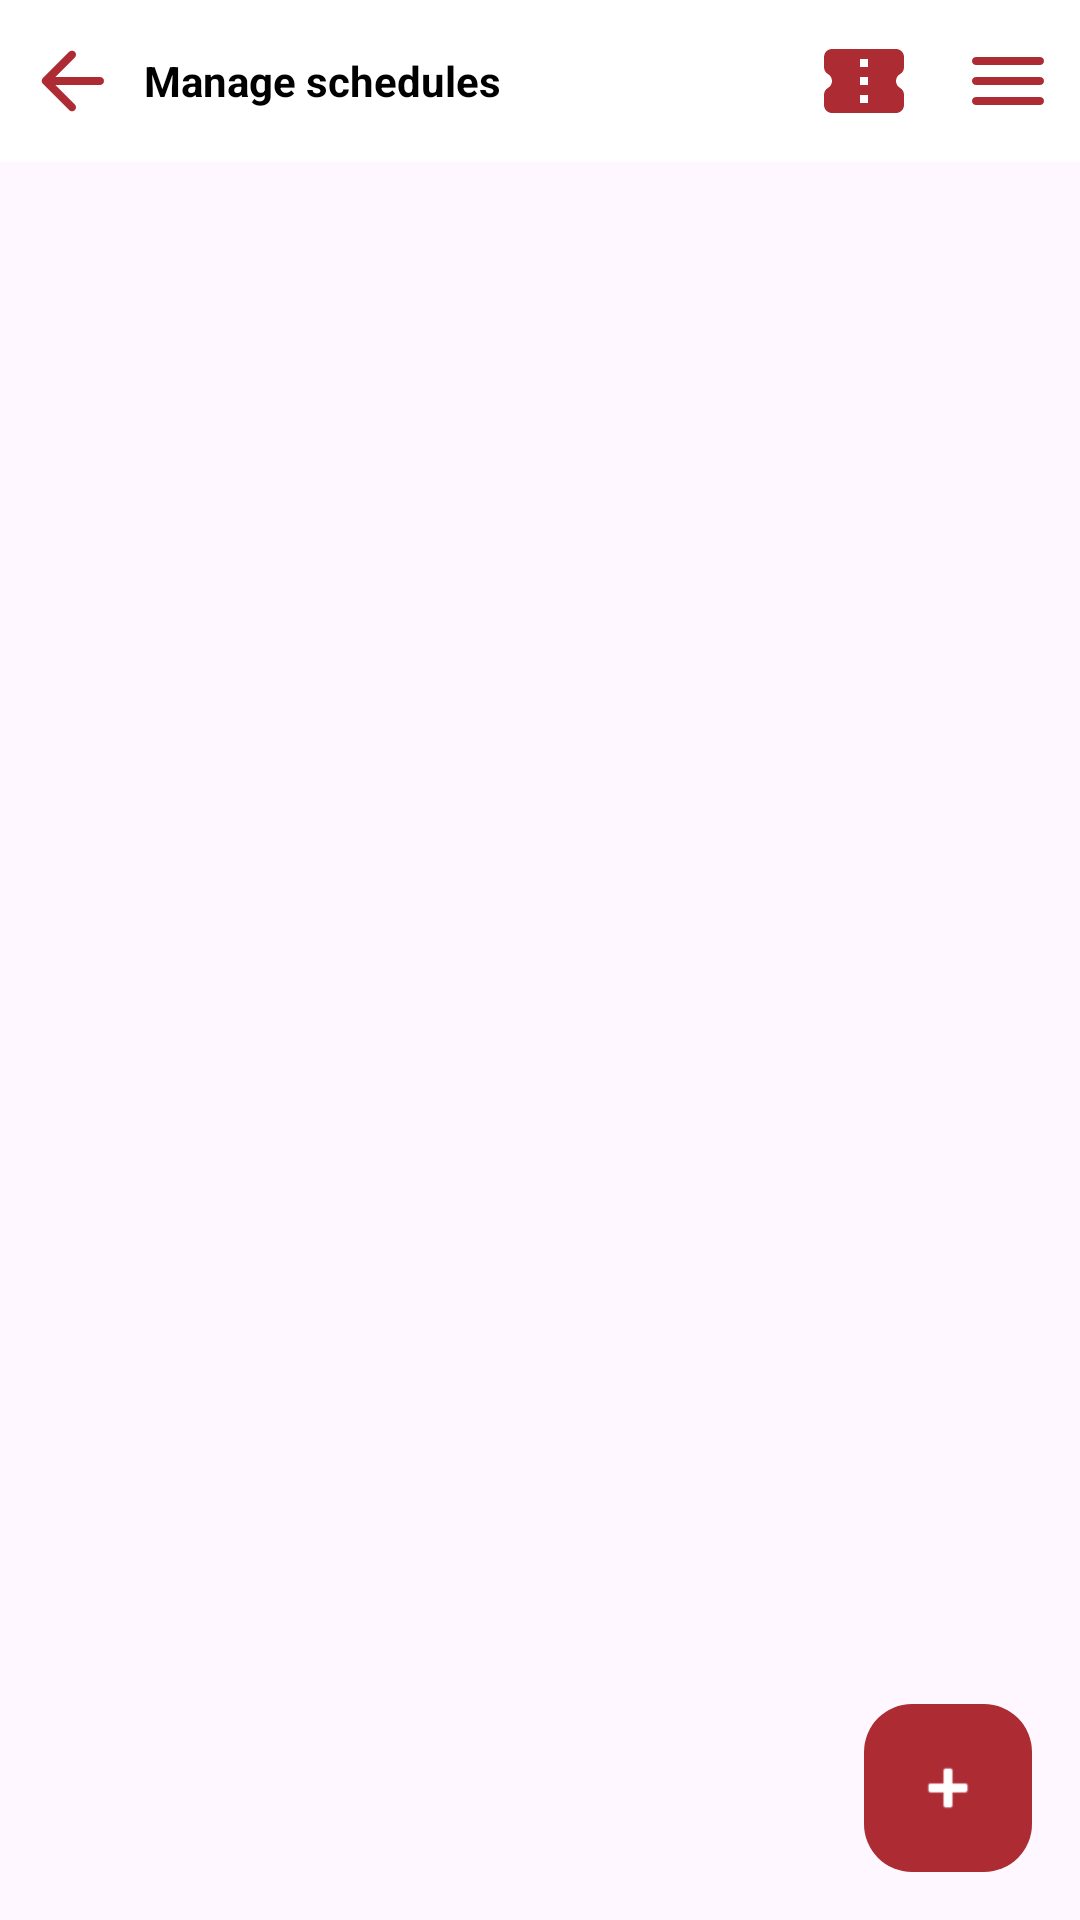

Where icons sit on this 1080*1920 app screen, as (x1=x1, y1=y1, x2=x2, y2=y2):
add: (x1=864, y1=1704, x2=1032, y2=1872)
back arrow: (x1=41, y1=50, x2=104, y2=112)
menu: (x1=972, y1=57, x2=1044, y2=105)
ticket: (x1=824, y1=49, x2=904, y2=113)
